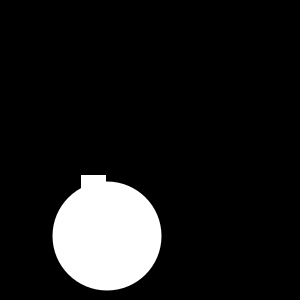circle: (81, 175, 106, 200)
rectangle: (53, 182, 162, 290)
